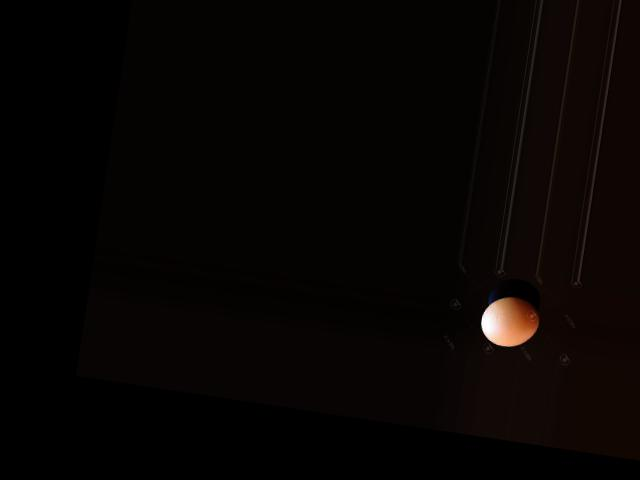egg: (478, 291, 542, 350)
